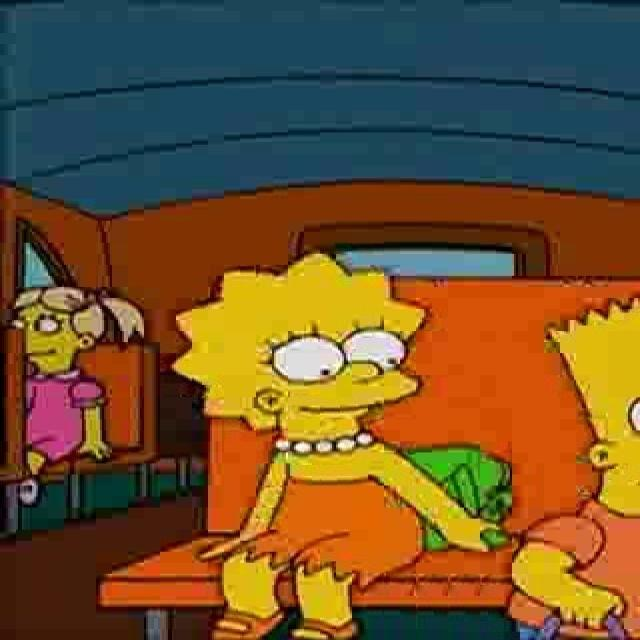Bart Simpson: (545, 290, 639, 524)
Lisa Simpson: (167, 254, 429, 447)
